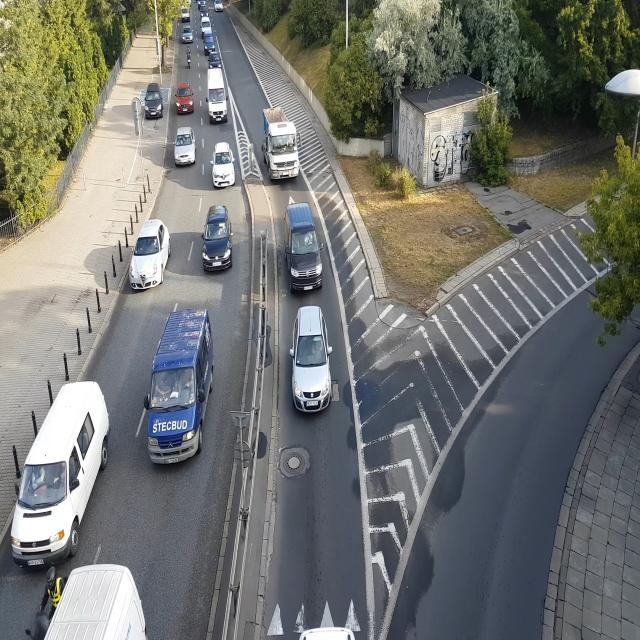car: (13, 378, 104, 559), (137, 300, 216, 462), (291, 302, 336, 430), (283, 207, 327, 295), (127, 218, 174, 298), (200, 198, 240, 282), (169, 118, 200, 175), (210, 138, 239, 189), (206, 69, 230, 127), (170, 74, 197, 115), (142, 80, 166, 120), (208, 49, 224, 75), (203, 31, 216, 53), (182, 26, 195, 42), (201, 16, 212, 34), (181, 6, 191, 23), (214, 1, 223, 13), (200, 7, 209, 17), (183, 0, 192, 6), (198, 0, 206, 6)
motorcycle: (26, 569, 65, 640), (176, 43, 196, 71)
truck: (258, 100, 306, 186)
